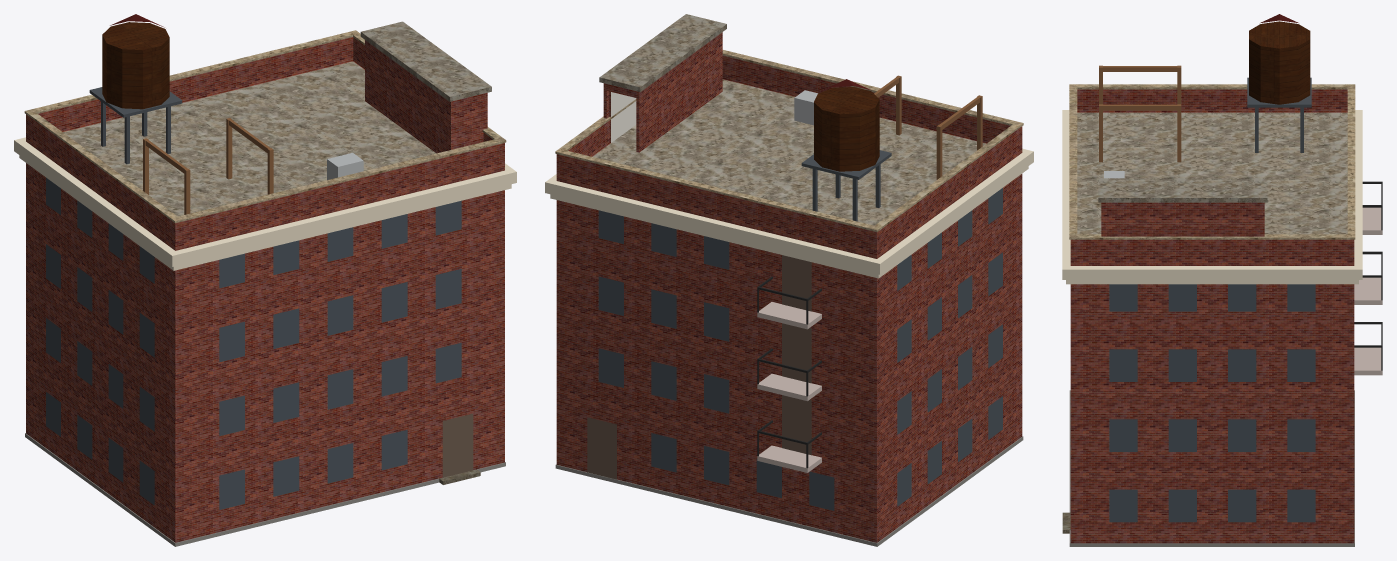
Rendered from ns-brick-walkup.towns-v1.lod1.glb.
3 views of the same model, side by side, from view 1: azimuth 30°, elevation 25°; view 2: azimuth 150°, elevation 25°; view 3: azimuth 270°, elevation 25° (orthographic). The views are drawn at different scales.
Parts seen in each view (by area): view 1: ns-brick-walkup; view 2: ns-brick-walkup; view 3: ns-brick-walkup.
Part boxes in pixels (x1,y1,x2,y2): ns-brick-walkup: [14, 14, 516, 546]; ns-brick-walkup: [545, 14, 1033, 546]; ns-brick-walkup: [1062, 14, 1382, 546].
Bounding box in the file's own units: 14.64 × 17.65 × 12.42.
Materials: 4 (3 with a texture image).
